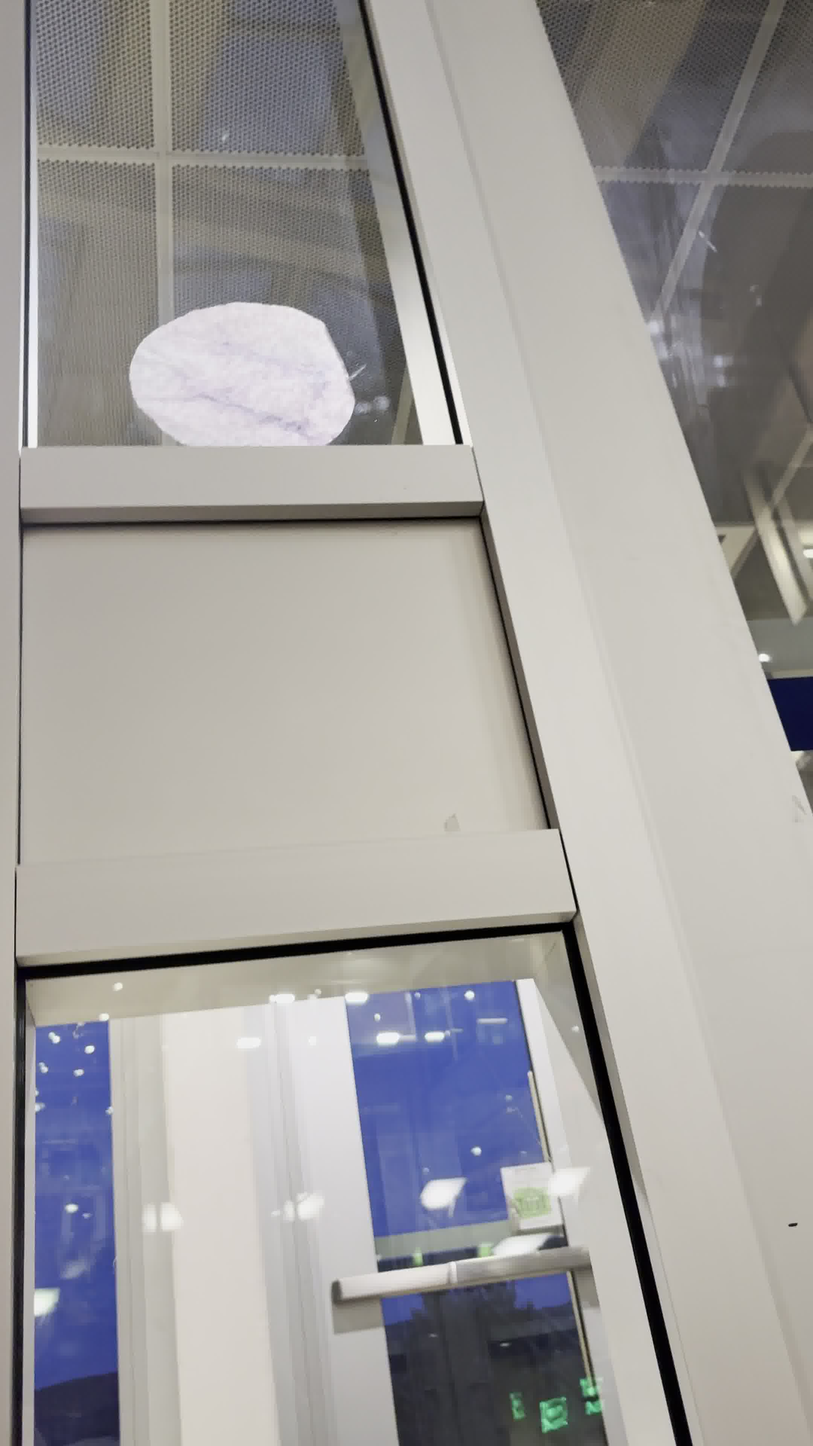Target: (124, 299, 359, 455)
